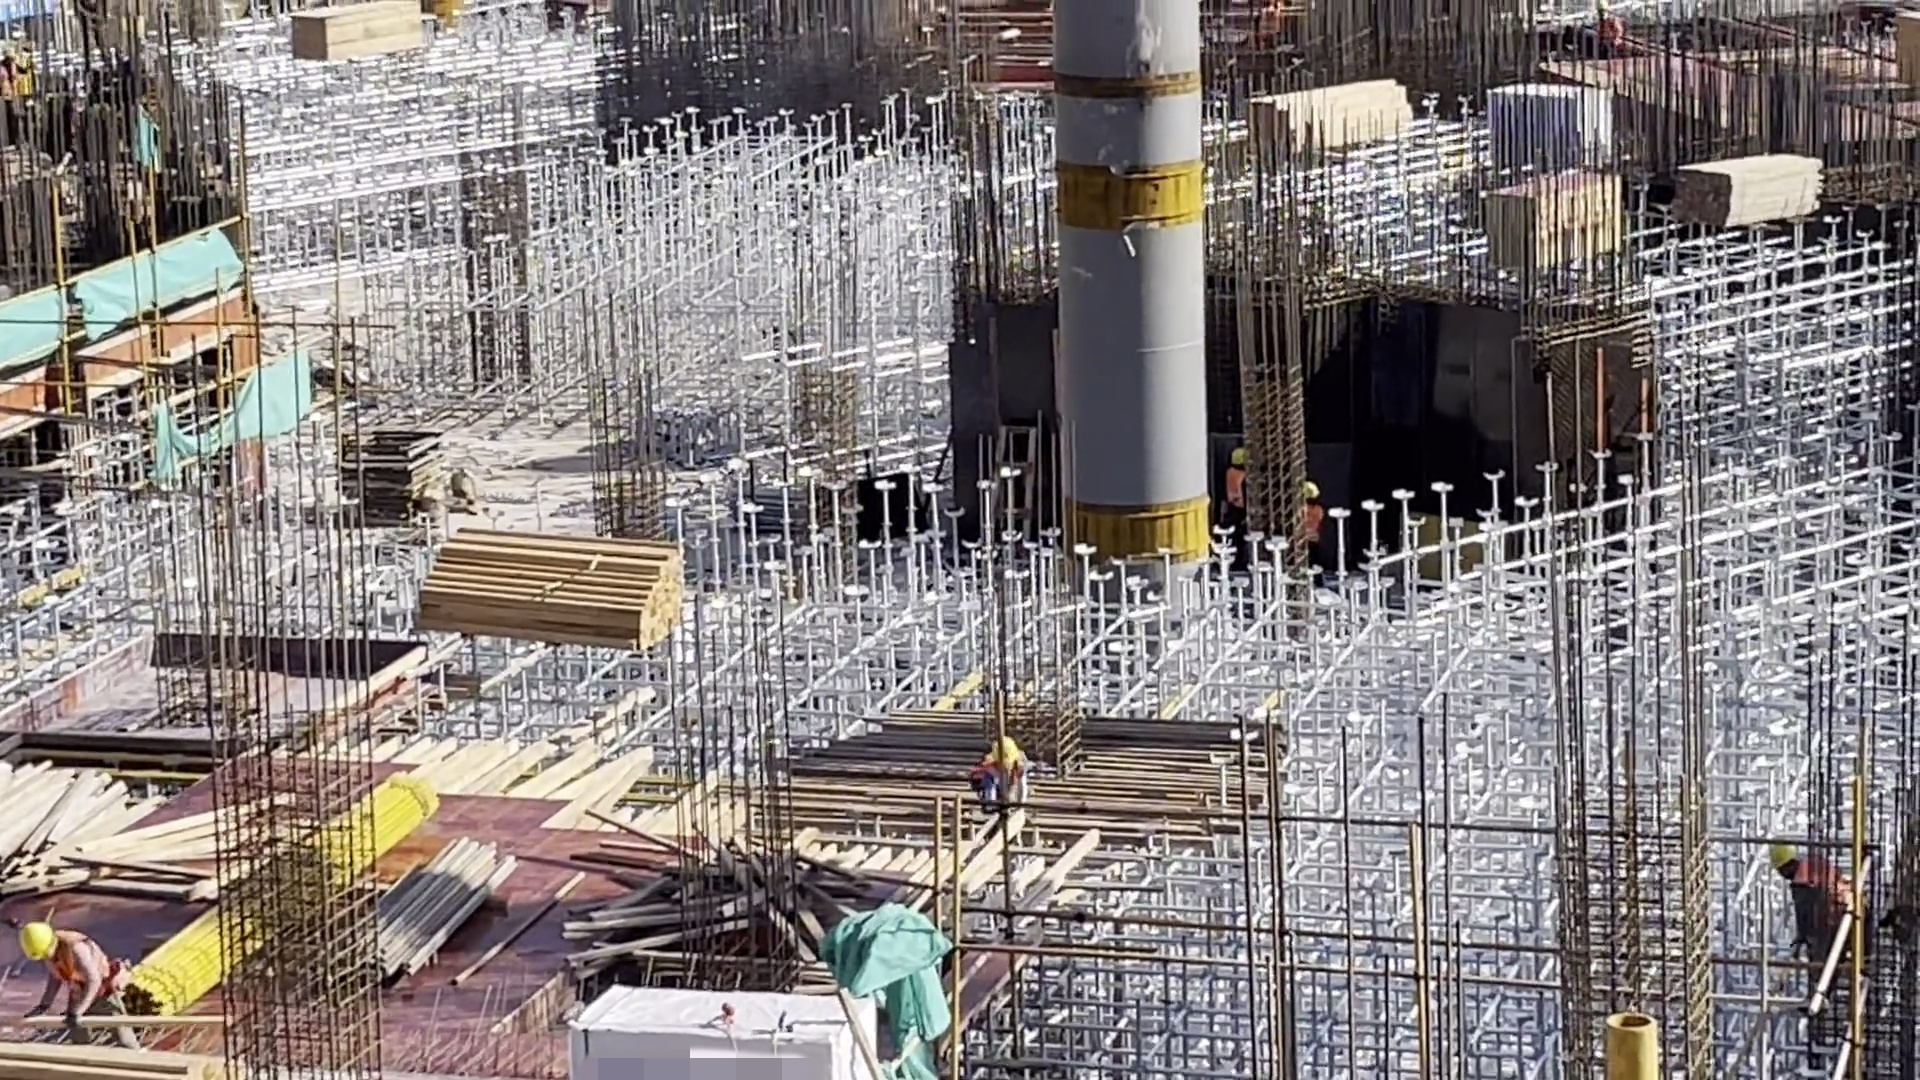board: (337, 431, 483, 519)
helmet: (28, 919, 67, 967), (988, 734, 1024, 769), (1767, 841, 1799, 878), (1232, 446, 1254, 470), (1299, 483, 1322, 502)
person: (20, 912, 147, 1066), (1765, 841, 1844, 980), (970, 724, 1037, 841), (1290, 461, 1336, 583), (1229, 431, 1258, 545)
vest: (46, 931, 114, 1003), (1223, 468, 1257, 516), (1299, 501, 1334, 544)
wood: (409, 531, 684, 652), (1, 766, 151, 897), (1244, 80, 1420, 171), (1669, 142, 1827, 244), (8, 1046, 181, 1080)
